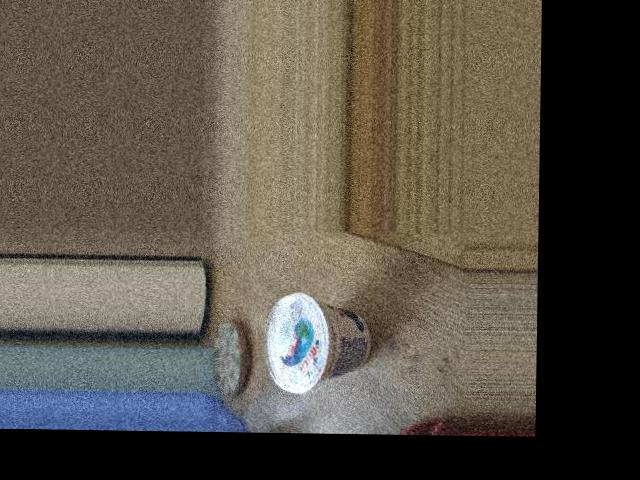cotage: (260, 289, 388, 378)
